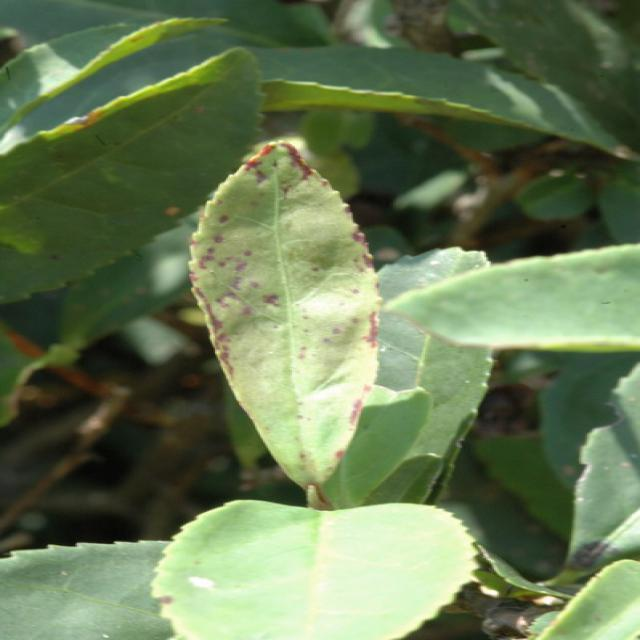Tea red scab: (196, 149, 391, 457)
